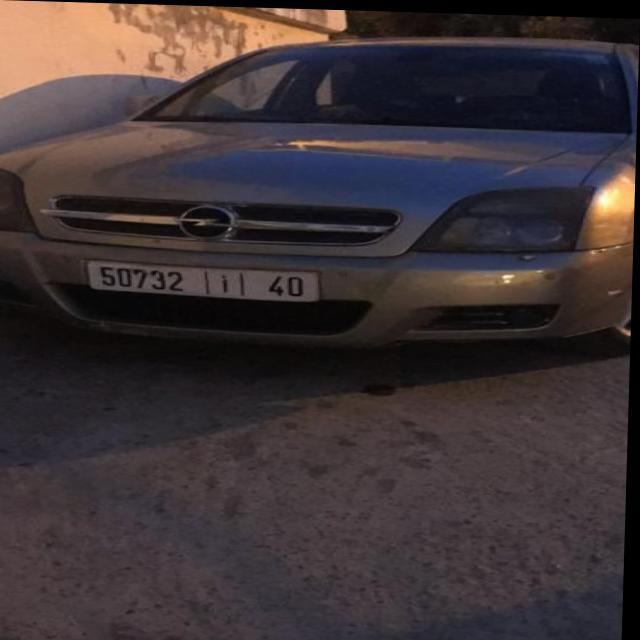License-Plate: (90, 262, 322, 299)
